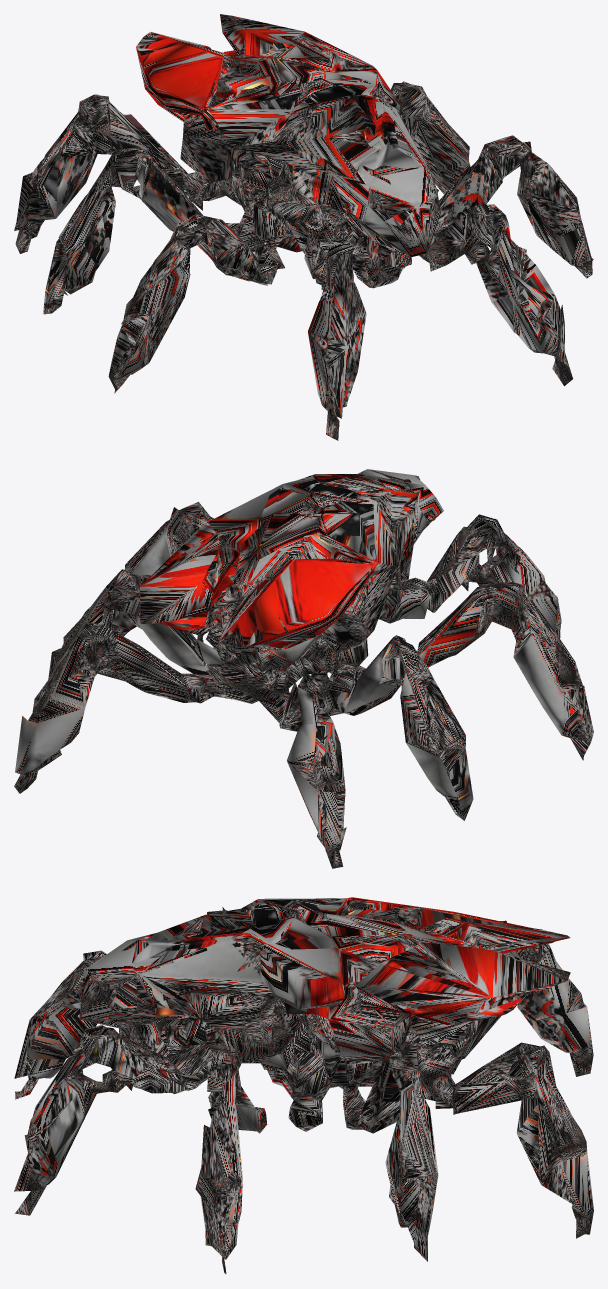
Rendered from spider.glb.
3 renders of one model, top to bottom at view 1: azimuth 30°, elevation 25°; view 2: azimuth 150°, elevation 25°; view 3: azimuth 270°, elevation 25°, orthographic. The views are drawn at different scales.
Size of the model in its own units: 1.84 by 0.8498 by 1.83.
Materials: 1 (1 with a texture image).
